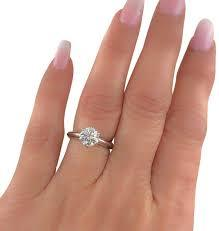Ring: (67, 120, 115, 160)
